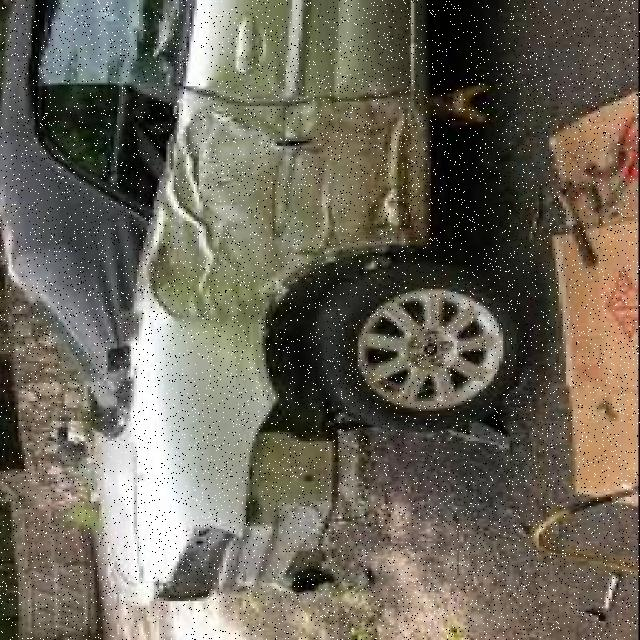damage: (138, 86, 435, 324), (149, 331, 358, 601)
